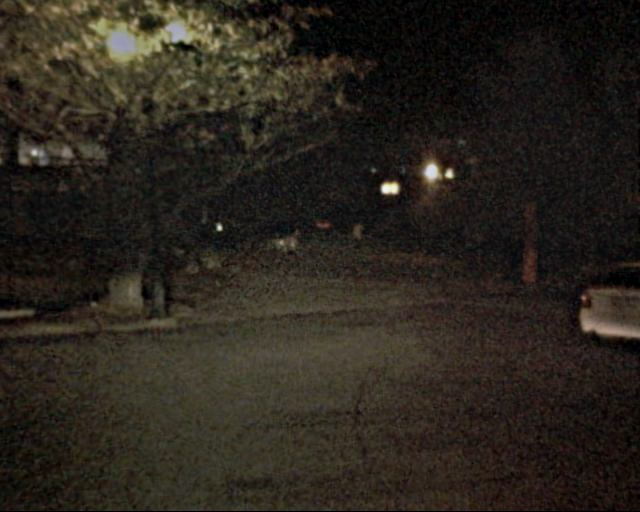person: (345, 222, 362, 264)
